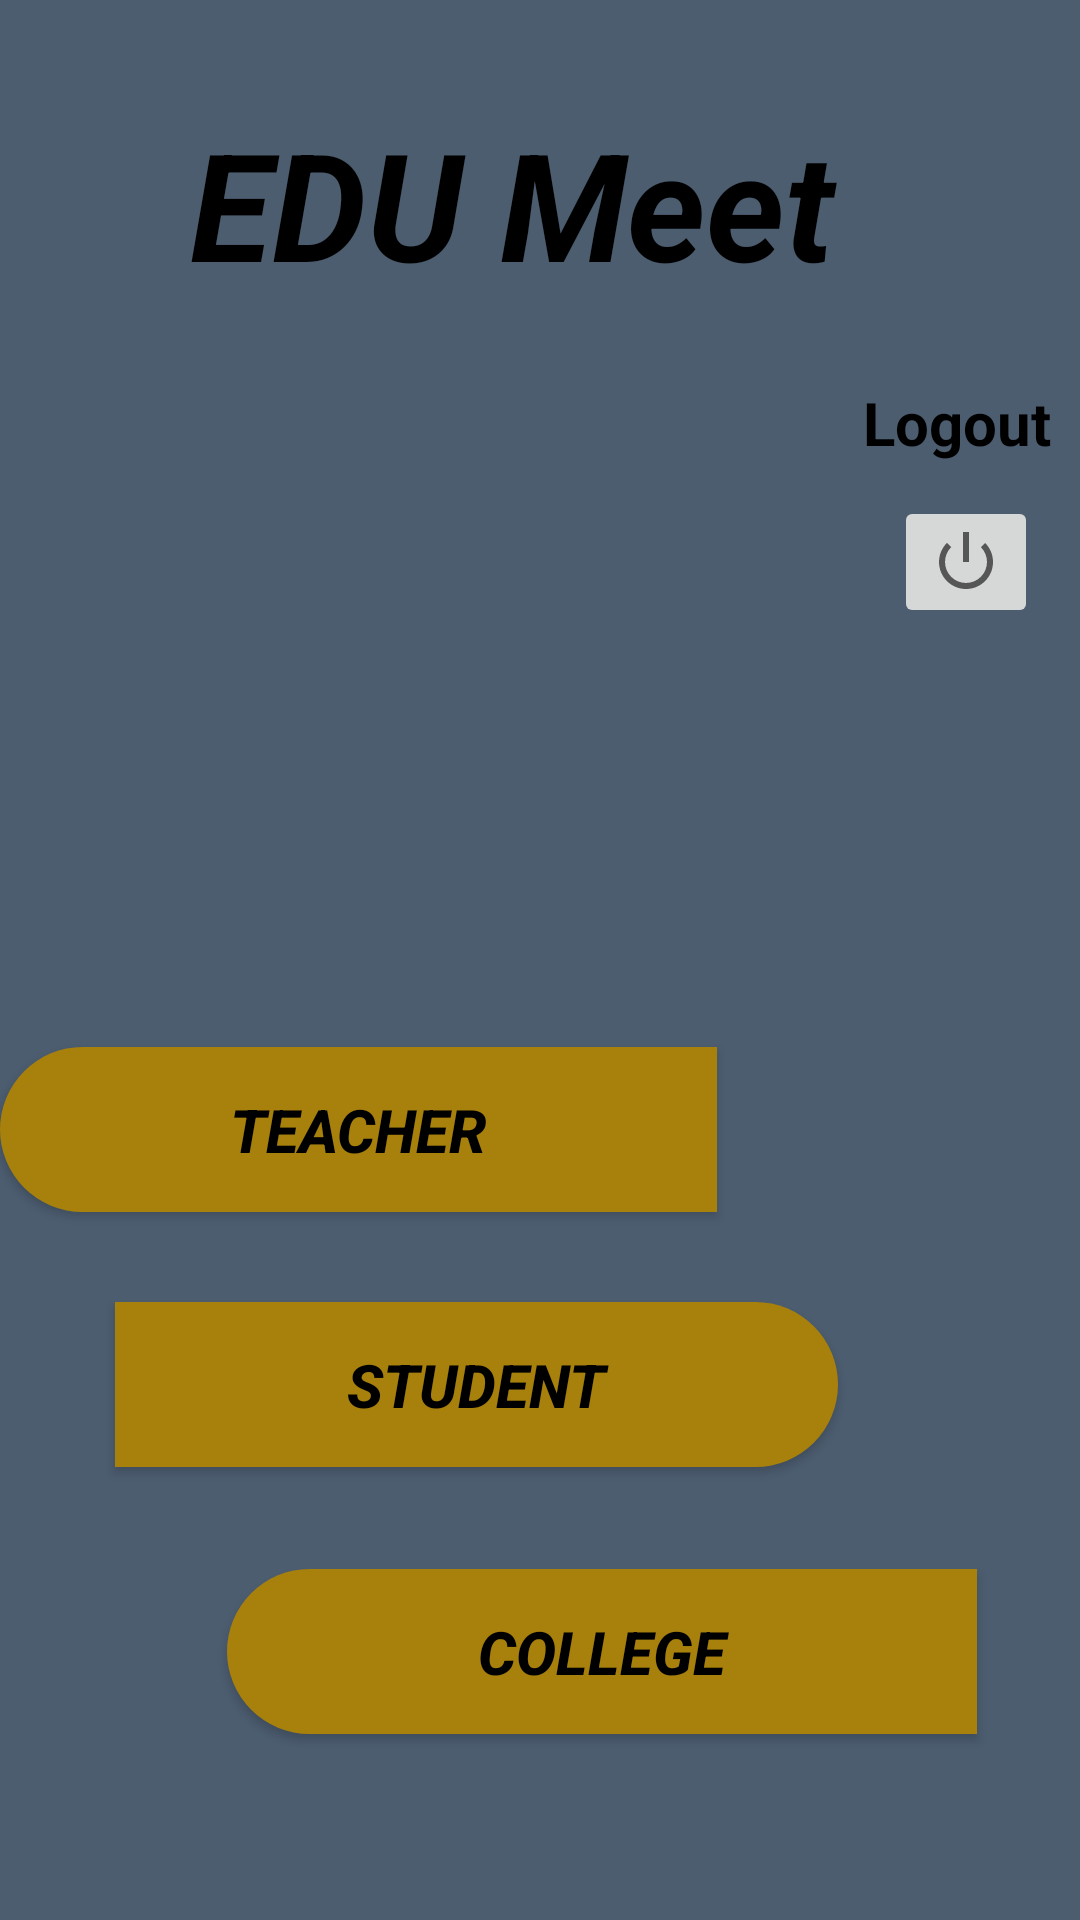

Screen size 1080w x 1920h. Icon name, then its box in pixels as region(x1, y1, x2, y2):
lock power off: region(906, 514, 1026, 610)
